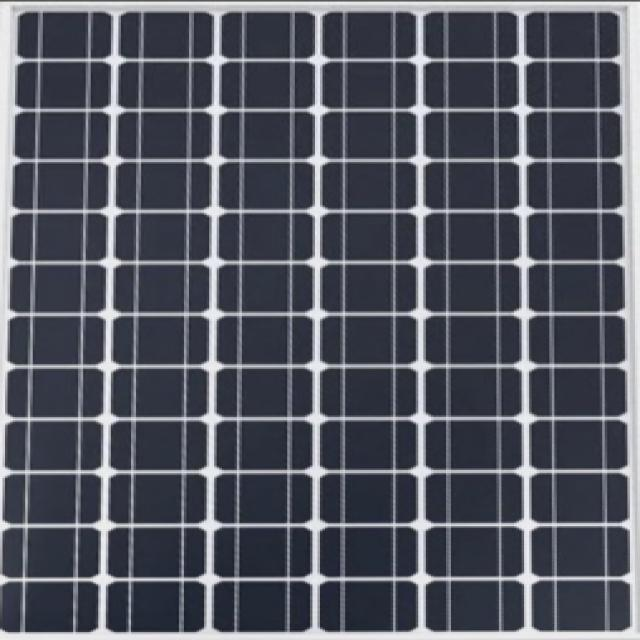clean-solar-panel: (143, 64, 187, 108)
